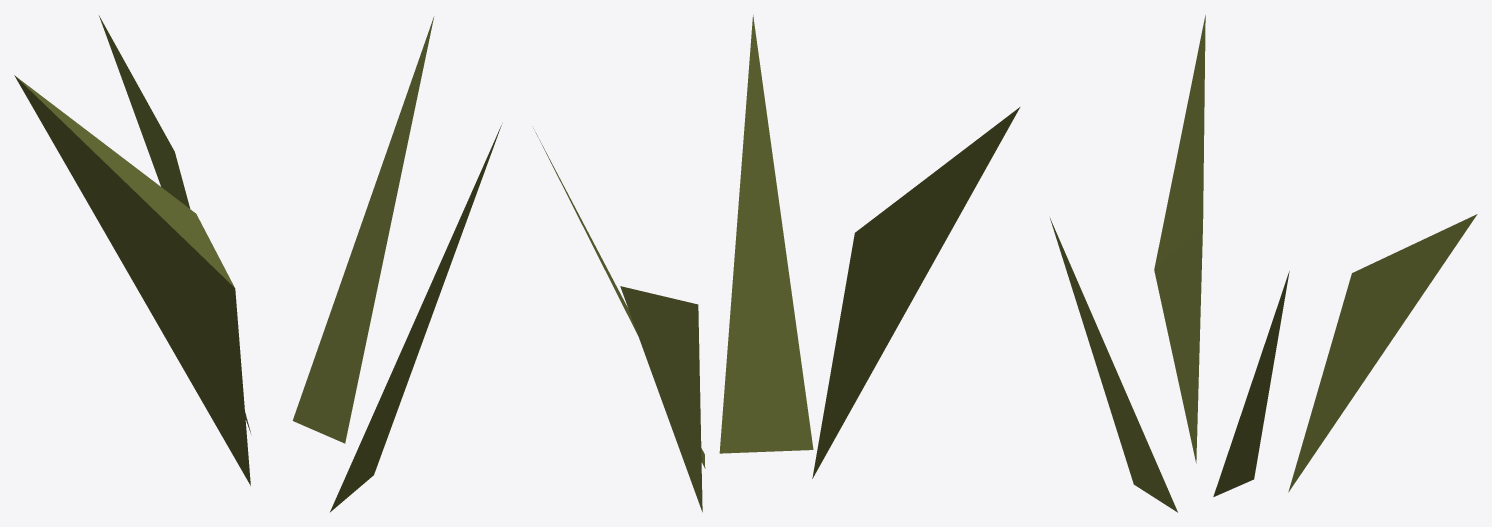
Rendered from grass_type_1_LOD2.fbx.
The picture shows the model from 3 angles, left to right: view 1: azimuth 30°, elevation 25°; view 2: azimuth 150°, elevation 25°; view 3: azimuth 270°, elevation 25°; orthographic projection. The views are drawn at different scales.
Parts seen in each view (by area): view 1: Cube; view 2: Cube; view 3: Cube.
Boxes of the visible parts, x1=… form: Cube: x1=14, y1=15, x2=502, y2=512; Cube: x1=532, y1=15, x2=1020, y2=512; Cube: x1=1050, y1=15, x2=1477, y2=512.
Bounding box in the file's own units: 616 × 584 × 616.
